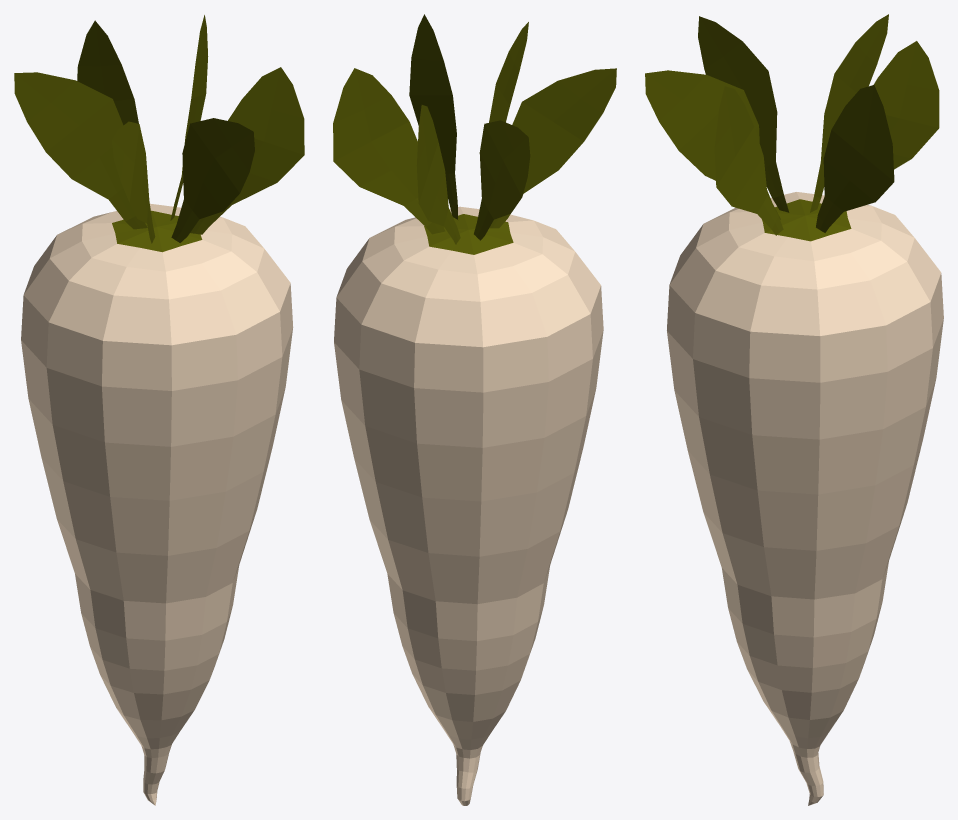
Rendered from horseradish.glb.
3 views of the same model, side by side, from view 1: azimuth 30°, elevation 25°; view 2: azimuth 150°, elevation 25°; view 3: azimuth 270°, elevation 25° (orthographic). The views are drawn at different scales.
Visible parts, largest first — view 1: horseradish; view 2: horseradish; view 3: horseradish.
Part boxes in pixels (x1,y1,x2,y2): horseradish: [14, 15, 304, 805]; horseradish: [333, 14, 616, 805]; horseradish: [645, 14, 943, 805].
Bounding box in the file's own units: 0.4887 × 1.48 × 0.5271.
1 material, 1 textured.
